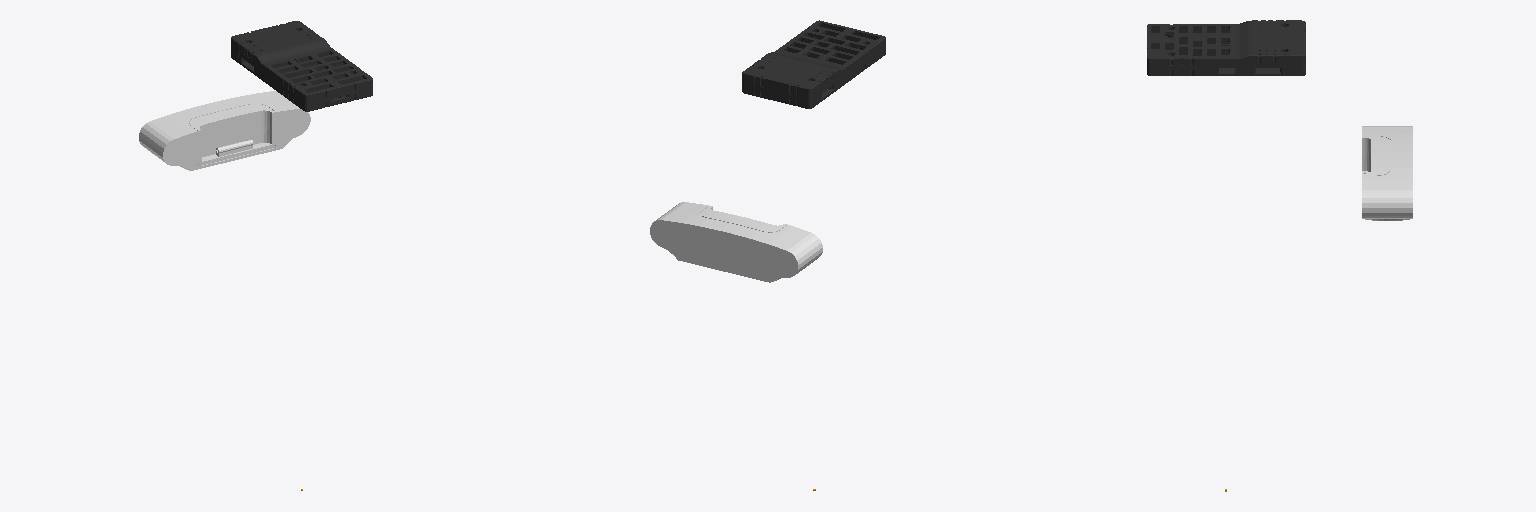
The robot description file, URDF, robot "holybro_drone":
<?xml version="1.0" encoding="utf-8"?>
<!-- This URDF was automatically created by SolidWorks to URDF Exporter! Originally created by [author] ([email redacted]) 
     Commit Version: 1.6.0-4-g7f85cfe  Build Version: 1.6.7995.38578
     For more information, please see http://wiki.ros.org/sw_urdf_exporter -->
<robot
  name="holybro_drone">
<link name="base_footprint">
    <visual>
        <origin xyz="0 0 0" rpy="0 0 0" />
        <geometry>
            <box size="0.001 0.001 0.001" />
        </geometry>
    </visual>
</link>

<joint name="base_footprint" type="fixed">
    <origin xyz="0 0 0.001" rpy="0 0 0" />
    <parent link="base_footprint"/>
    <child link="drone_body_link" />
</joint>
  <link
    name="drone_body_link">
    <inertial>
      <origin
        xyz="3.4872E-05 -0.005042 0.17624"
        rpy="0 0 0" />
      <mass
        value="0.45304" />
      <inertia
        ixx="0.00040952"
        ixy="4.705E-07"
        ixz="-4.7135E-13"
        iyy="0.00025147"
        iyz="1.9061E-11"
        izz="0.0005243" />
    </inertial>
    <visual>
      <origin
        xyz="0 0 0"
        rpy="0 0 0" />
      <geometry>
        <mesh
          filename="package://drone_urdf/meshes/visual/drone_body_link.STL" />
      </geometry>
      <material
        name="">
        <color
          rgba="0.5 0.5 0.5 1" />
      </material>
    </visual>
    <collision>
      <origin
        xyz="0 0 0"
        rpy="0 0 0" />
      <geometry>
        <mesh
          filename="package://drone_urdf/meshes/visual/drone_body_link.STL" />
      </geometry>
    </collision>
  </link>
  <link
    name="webcam_link">
    <inertial>
      <origin
        xyz="1.0628E-07 -0.00096634 -0.011469"
        rpy="0 0 0" />
      <mass
        value="0.047029" />
      <inertia
        ixx="4.3918E-06"
        ixy="-2.6587E-12"
        ixz="-3.0923E-11"
        iyy="3.2979E-05"
        iyz="-8.442E-08"
        izz="3.3775E-05" />
    </inertial>
    <visual>
      <origin
        xyz="0 0 0"
        rpy="0 0 0" />
      <geometry>
        <mesh
          filename="package://drone_urdf/meshes/visual/webcam_link.STL" />
      </geometry>
      <material
        name="">
        <color
          rgba="0.9 0.9 0.9 1" />
      </material>
    </visual>
    <collision>
      <origin
        xyz="0 0 0"
        rpy="0 0 0" />
      <geometry>
        <mesh
          filename="package://drone_urdf/meshes/visual/webcam_link.STL" />
      </geometry>
    </collision>
  </link>
  <joint
    name="webcam_link"
    type="fixed">
    <origin
      xyz="0 0.0852 0.17176"
      rpy="3.1416 0 0" />
    <parent
      link="drone_body_link" />
    <child
      link="webcam_link" />
    <axis
      xyz="0 0 0" />
  </joint>
  <link
    name="controller_link">
    <inertial>
      <origin
        xyz="0.00010337 0.0021925 -0.00062974"
        rpy="0 0 0" />
      <mass
        value="0.019506" />
      <inertia
        ixx="1.2279E-05"
        ixy="2.2551E-08"
        ixz="3.8262E-09"
        iyy="3.6372E-06"
        iyz="-1.3435E-07"
        izz="1.5836E-05" />
    </inertial>
    <visual>
      <origin
        xyz="0 0 0"
        rpy="0 0 0" />
      <geometry>
        <mesh
          filename="package://drone_urdf/meshes/visual/controller_link.STL" />
      </geometry>
      <material
        name="">
        <color
          rgba="0.25 0.25 0.25 1" />
      </material>
    </visual>
    <collision>
      <origin
        xyz="0 0 0"
        rpy="0 0 0" />
      <geometry>
        <mesh
          filename="package://drone_urdf/meshes/visual/controller_link.STL" />
      </geometry>
    </collision>
  </link>
  <joint
    name="controller_link"
    type="fixed">
    <origin
      xyz="0 0 0.25641"
      rpy="0 0 0" />
    <parent
      link="drone_body_link" />
    <child
      link="controller_link" />
    <axis
      xyz="0 0 0" />
  </joint>
</robot>

--- Facts derived from the render (not from the file) ---
The picture shows the robot from 3 angles, left to right: view 1: azimuth 30°, elevation 25°; view 2: azimuth 150°, elevation 25°; view 3: azimuth 270°, elevation 25°; orthographic projection.
Robot: holybro_drone — 4 links, 3 joints (3 fixed); root link base_footprint; default pose: all joints at 0.
Visible links, largest first — view 1: webcam_link, controller_link; view 2: webcam_link, controller_link; view 3: controller_link, webcam_link.
Boxes of the visible links, x1,y1,x2,y2 form: webcam_link: [139, 91, 310, 170]; controller_link: [231, 21, 372, 111]; webcam_link: [650, 202, 822, 282]; controller_link: [742, 20, 885, 108]; controller_link: [1147, 20, 1305, 75]; webcam_link: [1362, 126, 1412, 220].
Size in the robot's own frame: 0.0939 by 0.1407 by 0.2644 metres.
Meshes: 3 distinct files referenced, 2 mesh visuals loaded (2 binary STL); not drawn: 1 (reference not matched to a file when rendering).